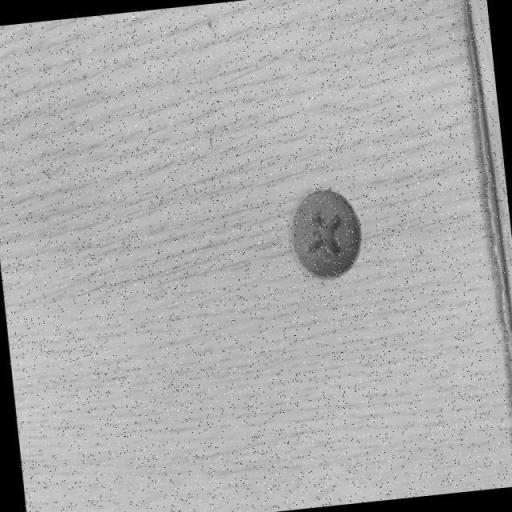Phillips: (295, 189, 361, 282)
